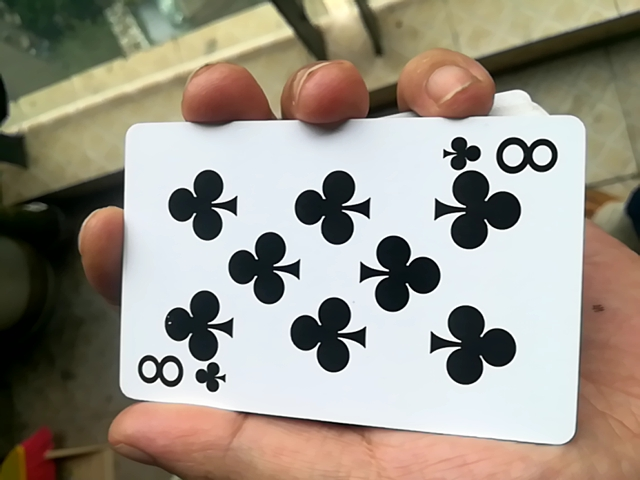mh 8: (110, 116, 576, 453)
